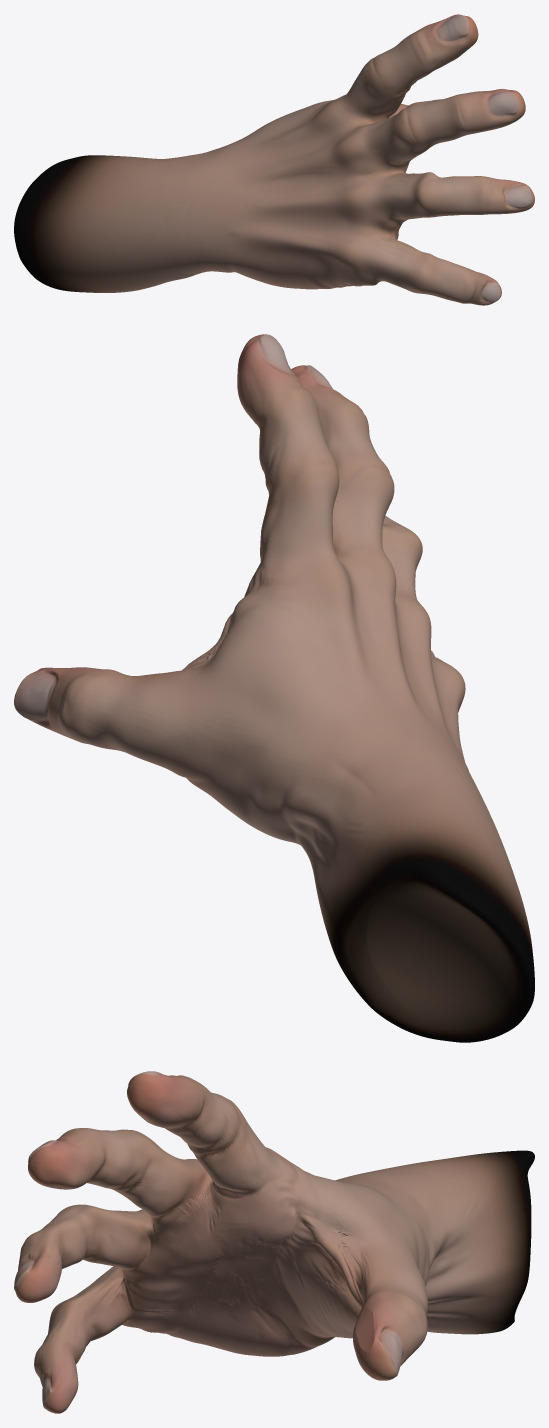
Rendered from hand.fbx.
The picture shows the model from 3 angles, top to bottom: view 1: azimuth 30°, elevation 25°; view 2: azimuth 150°, elevation 25°; view 3: azimuth 270°, elevation 25°; orthographic projection. The views are drawn at different scales.
Parts seen in each view (by area): view 1: tripo_node_1dc3fcc7; view 2: tripo_node_1dc3fcc7; view 3: tripo_node_1dc3fcc7.
Part boxes in pixels (<box>): tripo_node_1dc3fcc7: <box>14,14,534,305</box>; tripo_node_1dc3fcc7: <box>14,334,534,1042</box>; tripo_node_1dc3fcc7: <box>14,1071,534,1413</box>.
Bounding box in the file's own units: 0.9795 × 0.7472 × 0.8632.
Materials: 1 (1 with a texture image).
